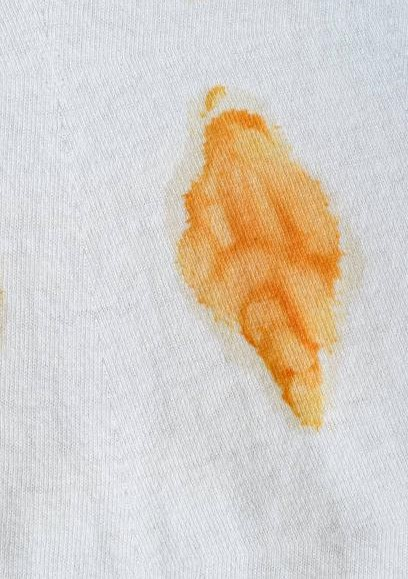stain: (171, 79, 347, 432)
